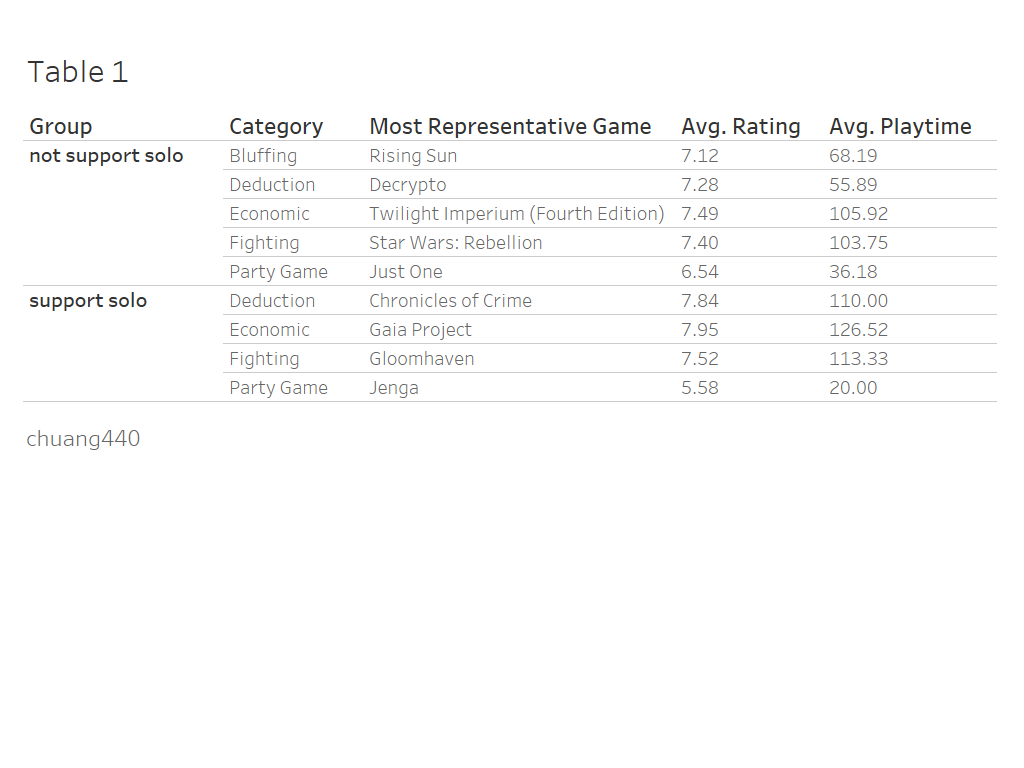

This screenshot's page, from the dashboard's own definition file:
{"tool":"tableau","page":{"name":"Dashboard 1","canvas":[1024,768],"ordinal":0},"visuals":[{"type":"worksheet","title":"Sheet 3","mark":"Automatic","rows":["category","Calculation_742249516060098563","Calculation_742249516063723526","Calculation_742249516062822405"],"box":[23,43,979,420]},{"type":"text","box":[22,412,131,50]}]}

Visuals, with their boxes in screenshot pixels (x1, y1, x2, y2), scaled from the page's 1024x768 canvas onto the 1024x768 screenshot:
"Sheet 3" worksheet: [23,43,1002,463]
text: [22,412,153,462]
